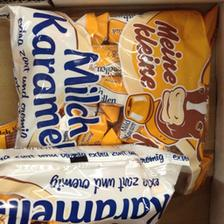Suessigkeit: (7, 1, 208, 182), (0, 147, 184, 223)
